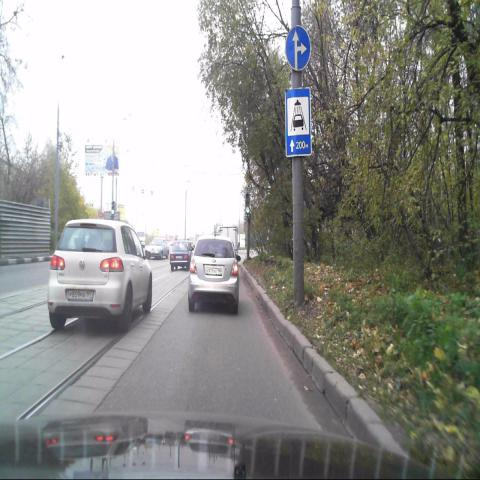7_5: (286, 88, 311, 156)
